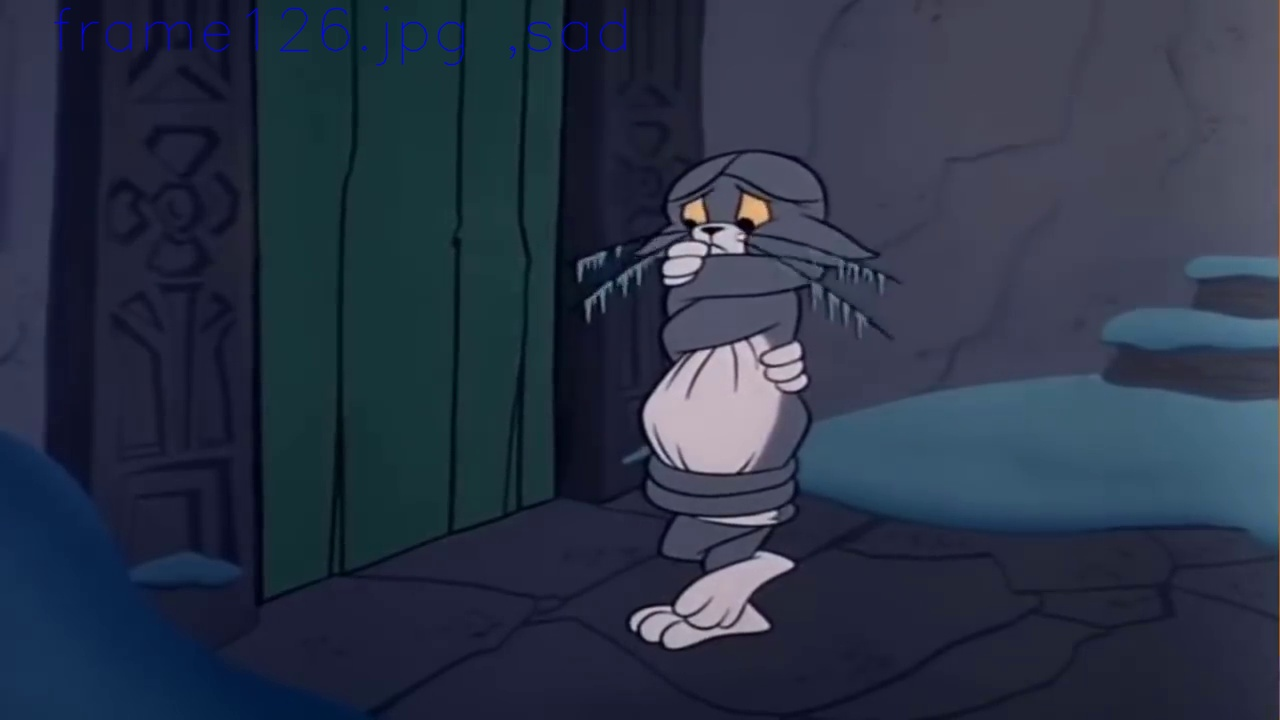sad: (678, 184, 772, 255)
